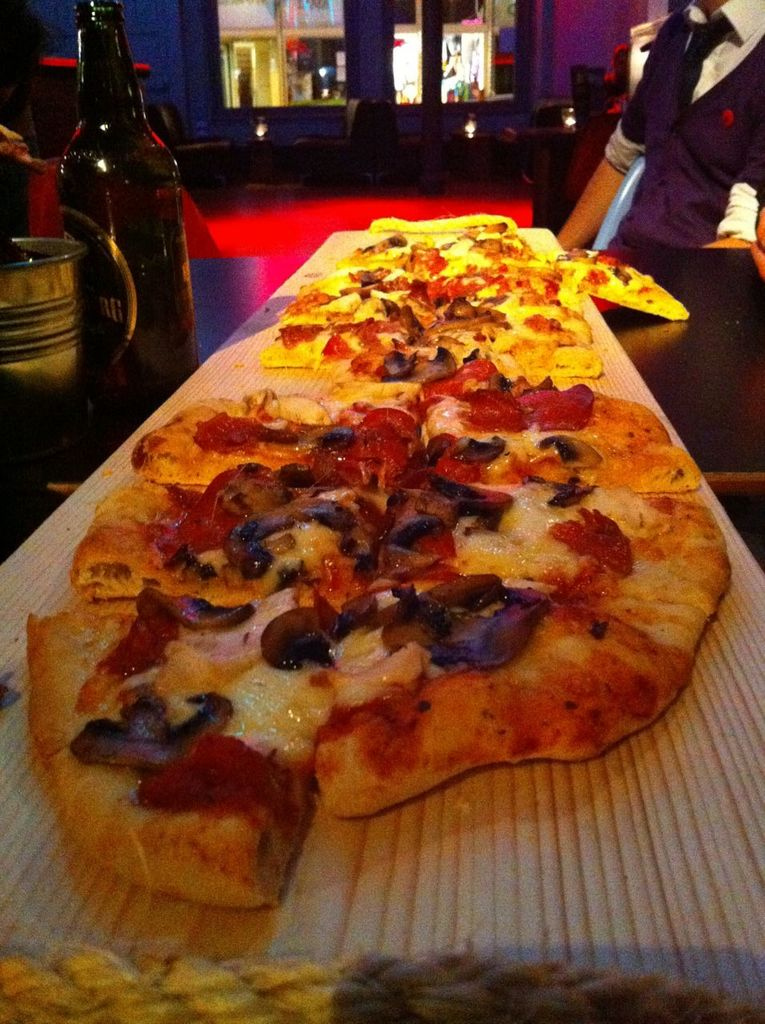Pizza: (46, 366, 712, 846), (272, 216, 568, 392), (552, 244, 688, 332)
